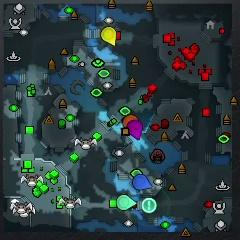Other: (142, 197, 156, 213)
p1: (132, 173, 152, 190)
p2: (118, 195, 137, 210)
p3: (128, 121, 142, 140)
p4: (101, 27, 116, 45)
p5: (123, 113, 137, 128)
